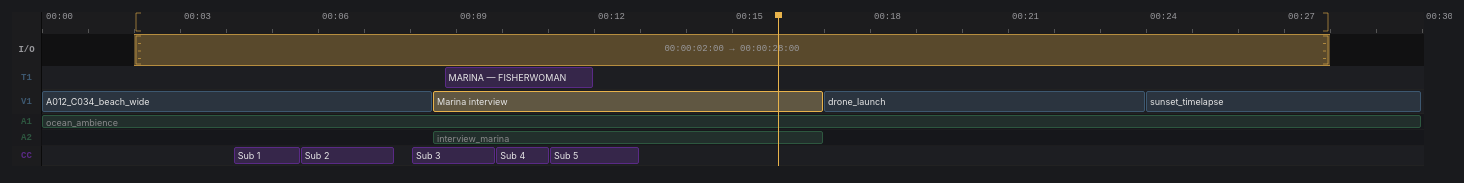
it: R23-WF (D-F1) — the band drag law (ruling 21: local preview, ONE commit per gesture) › F3 P3-2: dragging IN past the LIVE out PINS the preview at out — the release commits exactly the preview (no crossed readout, no drag-along)
This screenshot has width=1464, height=183.
Press the mouse on the slider with test id "shell-deliver-range-band-in" at [138, 50], box [134, 35, 142, 65]
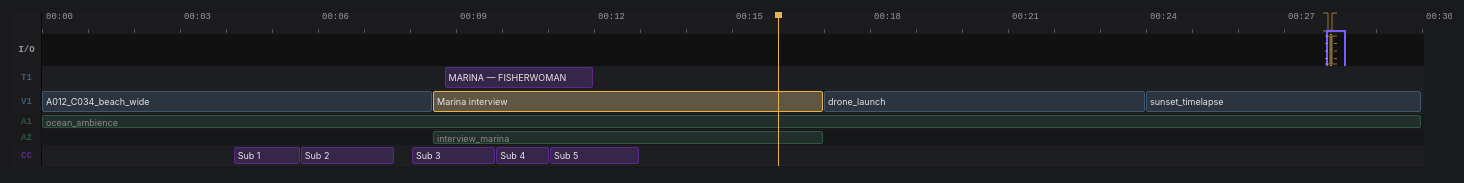
expect the element with test id "shell-deliver-range-band-tcs" reads "00:00:28:00 → 00:00:28:00": met, box [1323, 44, 1339, 54]
